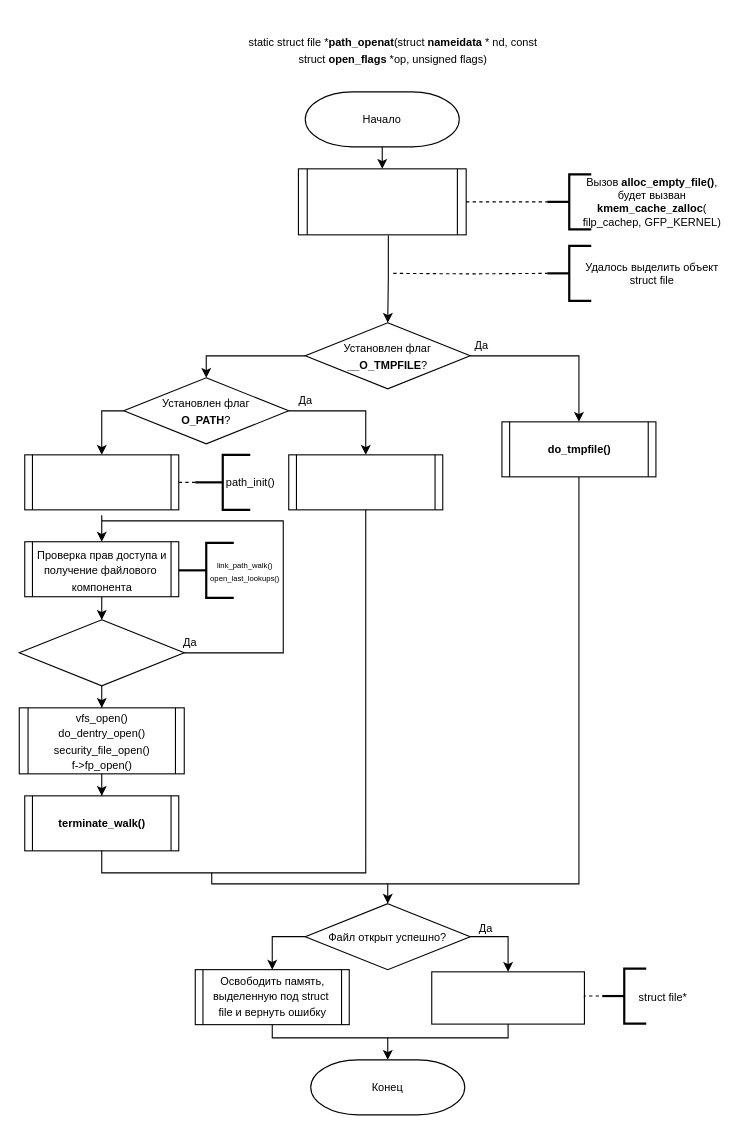
The diagram is 748 pixels wide and 1134 high, and some of its shapes have lost their labels. Each missing label, with the centre of its shape:
do_o_path(): (365,482)
Вернуть указатель на открытый файл: (507,997)
Выделить объект файловой структуры struct file: (381,201)
Поиск начальной позиции пути и обновление полей объекта struct nameidata: (101,482)
Последний компонент пути не достигнут?: (101,652)
